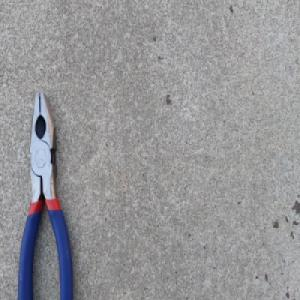Pliers: (16, 88, 75, 300)
